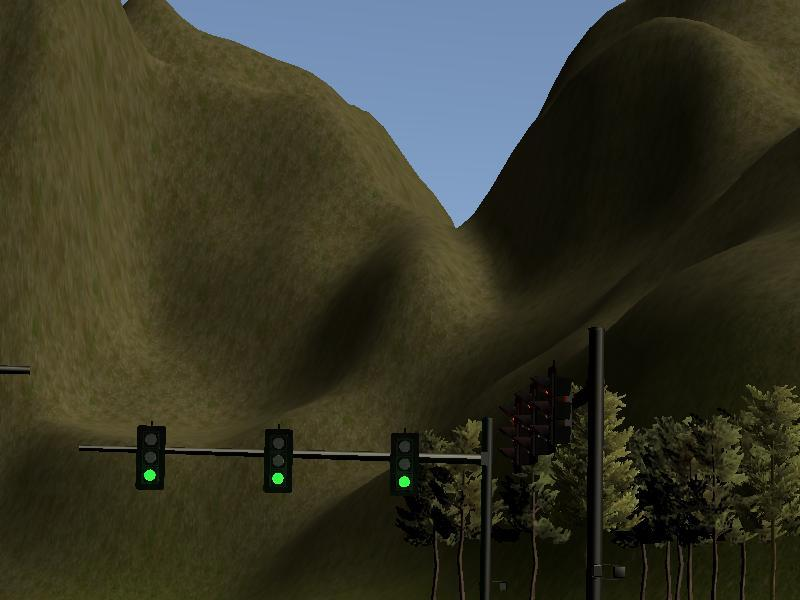Green: (136, 425, 165, 490), (390, 430, 419, 495), (263, 427, 292, 492)
